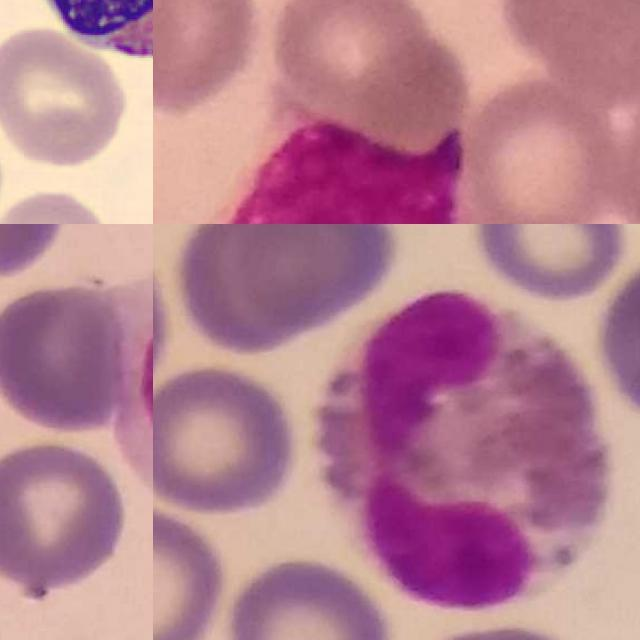Eosinophil: (325, 293, 614, 615), (11, 0, 153, 75)
Monocyte: (170, 103, 459, 224), (110, 224, 153, 531)
RBC: (0, 22, 132, 168), (0, 186, 120, 224)
